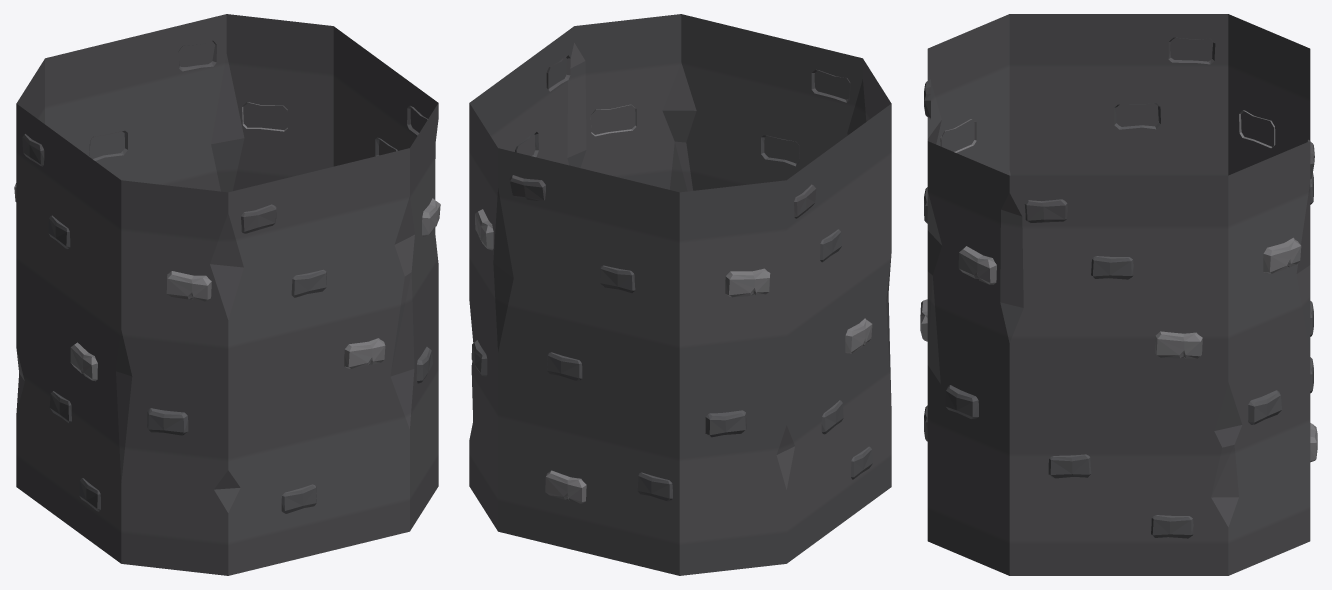
File: SM_Bld_Castle_Tower_03.gltf
The picture shows the model from 3 angles, left to right: view 1: azimuth 30°, elevation 25°; view 2: azimuth 150°, elevation 25°; view 3: azimuth 270°, elevation 25°; orthographic projection. The views are drawn at different scales.
Parts seen in each view (by area): view 1: SM_Bld_Castle_Tower_03; view 2: SM_Bld_Castle_Tower_03; view 3: SM_Bld_Castle_Tower_03.
Part boxes in pixels (box(x1,y1,x2,y2)): SM_Bld_Castle_Tower_03: box(14, 14, 440, 575); SM_Bld_Castle_Tower_03: box(469, 14, 891, 575); SM_Bld_Castle_Tower_03: box(920, 14, 1317, 575).
Bounding box in the file's own units: 2.7 × 3 × 2.7.
Materials: 1 (1 with a texture image).
